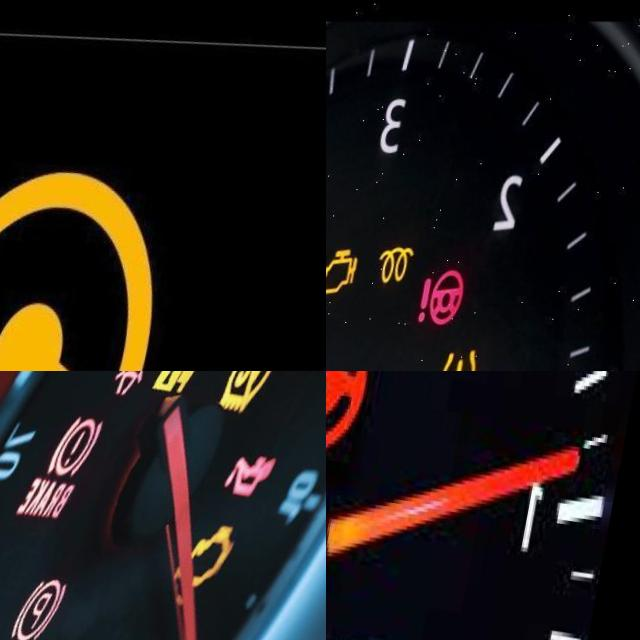Electronic Power Steering: (0, 138, 183, 371), (326, 371, 394, 457)
Electronic Power Steering Warning: (426, 254, 478, 322)
Seat Belt: (123, 371, 169, 394)
